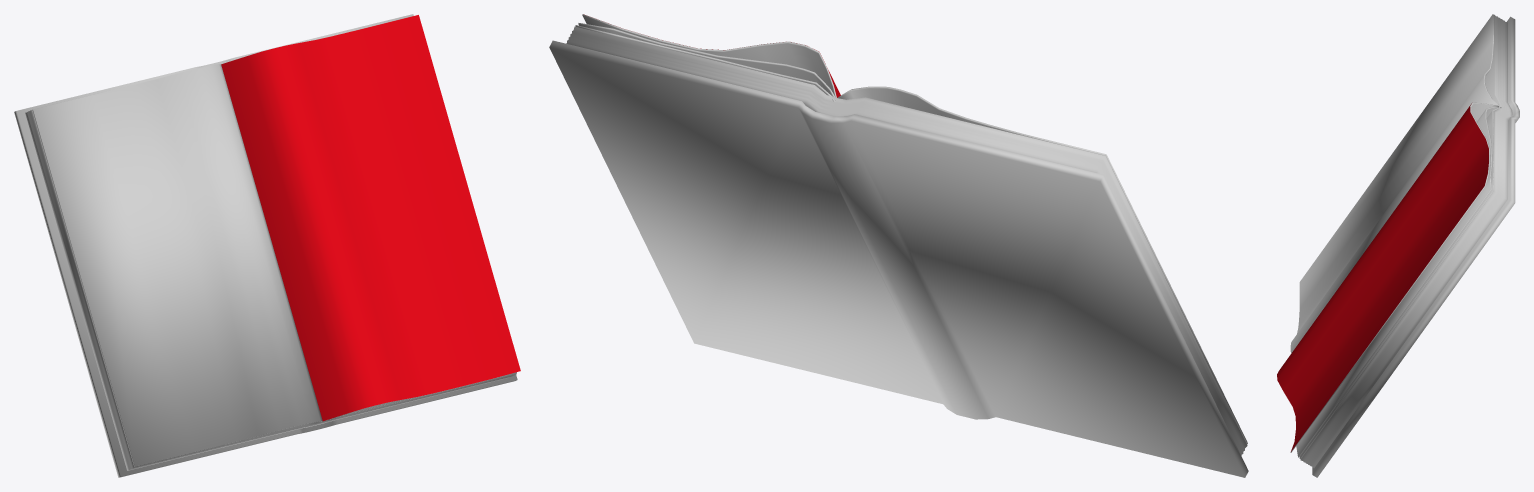
Rendered from new_book.fbx.
3 views of the same model, side by side, from view 1: azimuth 30°, elevation 25°; view 2: azimuth 150°, elevation 25°; view 3: azimuth 270°, elevation 25° (orthographic). The views are drawn at different scales.
Parts seen in each view (by area): view 1: main book, main book.001; view 2: main book; view 3: main book, main book.001.
Part boxes in pixels (<box>): main book: <box>14,14,517,477</box>; main book.001: <box>221,15,520,421</box>; main book: <box>549,14,1248,477</box>; main book: <box>1290,14,1519,477</box>; main book.001: <box>1277,103,1488,451</box>.
Size of the model in its own units: 30 by 22.83 by 16.77.
